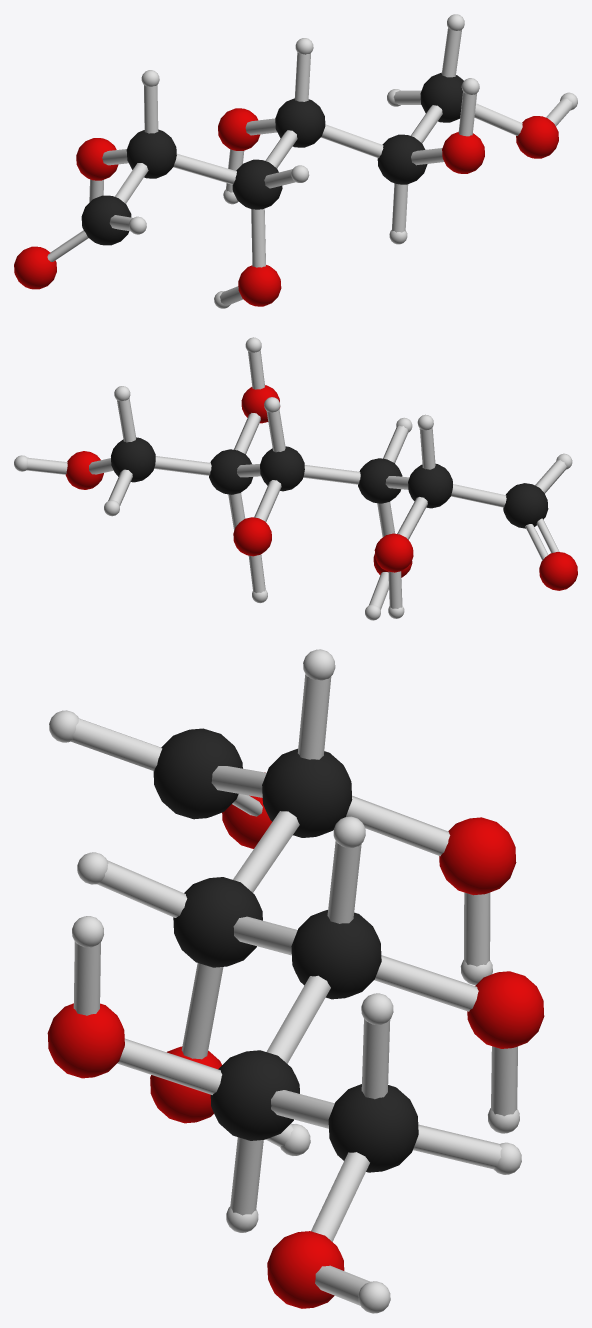
File: glucose.fbx
The picture shows the model from 3 angles, top to bottom: view 1: azimuth 30°, elevation 25°; view 2: azimuth 150°, elevation 25°; view 3: azimuth 270°, elevation 25°; orthographic projection. The views are drawn at different scales.
Parts seen in each view (by area): view 1: Group3, Group9, Group6, Group12, Group2, Group15, Group8, Group1, Group16, Group14, Group11, Group5 (+18 smaller); view 2: Group2, Group3, Group9, Group15, Group12, Group6, Group1, Group5, Group11, Group16, Group14, Group33 (+18 smaller); view 3: Group9, Group3, Group15, Group2, Group6, Group12, Group5, Group11, Group14, Group16, Group38, Group35 (+26 smaller).
Boxes of the visible parts, x1,y1,x2,y2 form: Group3: [126, 129, 176, 178]; Group9: [275, 98, 325, 147]; Group6: [232, 159, 282, 209]; Group12: [377, 134, 427, 184]; Group2: [81, 195, 131, 245]; Group15: [420, 72, 463, 122]; Group8: [238, 265, 281, 306]; Group1: [14, 246, 56, 289]; Group16: [516, 116, 558, 158]; Group14: [442, 132, 484, 173]; Group11: [218, 108, 260, 150]; Group5: [76, 138, 118, 180]; Group2: [503, 483, 548, 528]; Group3: [408, 463, 452, 508]; Group9: [260, 446, 304, 491]; Group15: [111, 437, 155, 482]; Group12: [209, 449, 252, 494]; Group6: [358, 458, 402, 503]; Group1: [539, 552, 577, 590]; Group5: [374, 533, 413, 572]; Group11: [233, 517, 271, 556]; Group16: [65, 451, 103, 489]; Group14: [241, 385, 279, 423]; Group33: [303, 465, 360, 484]; Group9: [291, 910, 381, 999]; Group3: [262, 748, 352, 837]; Group15: [328, 1084, 418, 1172]; Group2: [153, 728, 242, 819]; Group6: [173, 877, 262, 967]; Group12: [210, 1050, 299, 1140]; Group5: [439, 817, 516, 895]; Group11: [467, 971, 544, 1048]; Group14: [47, 1003, 124, 1078]; Group16: [267, 1231, 344, 1308]; Group38: [117, 1038, 222, 1094]; Group35: [374, 955, 478, 1011].
Bounding box in the file's own units: 737 × 296 × 298.
